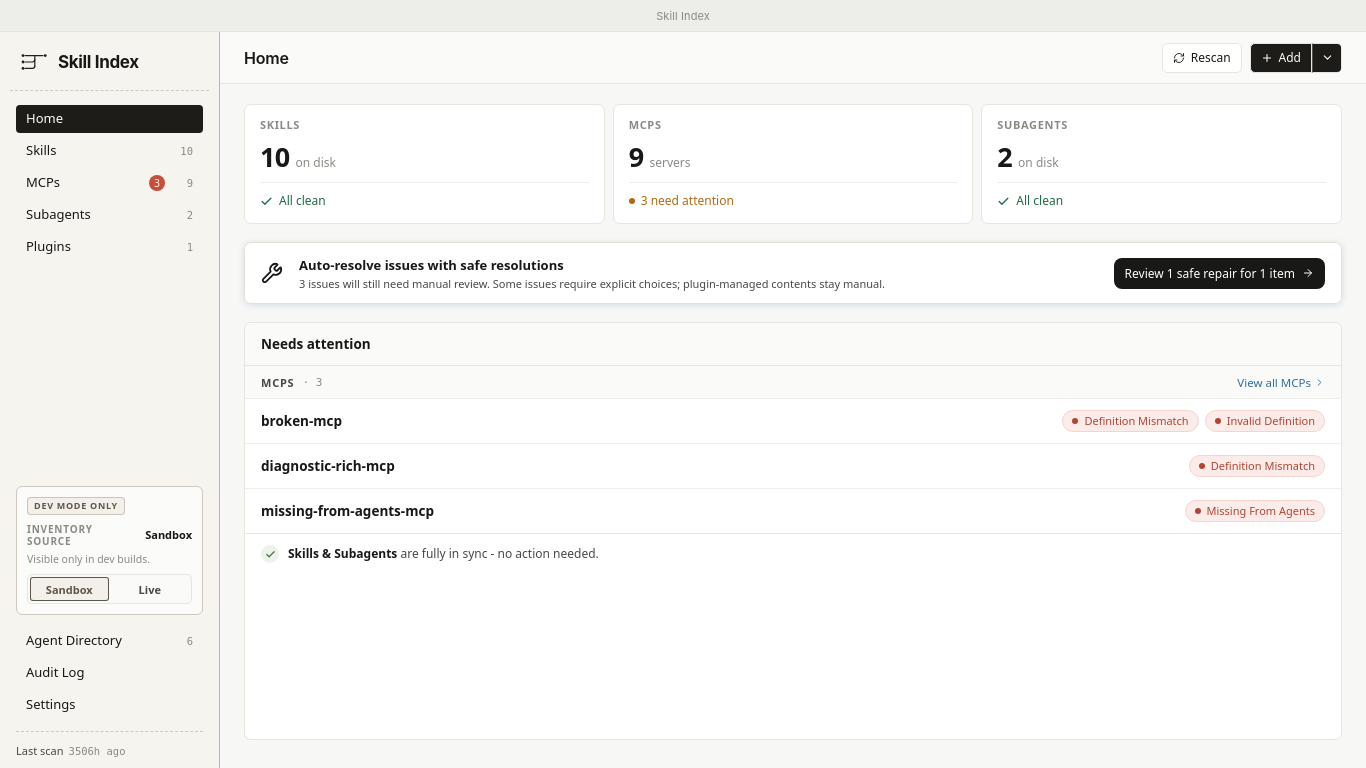
Test case: App shell inventory views › shows Home safe repairs when only MCP missing-from-agents issues are auto-resolvable
The image size is (1366, 768).
Click the button "Review 1 safe repair for 1 item": (1219, 273) [1114, 258, 1325, 289]
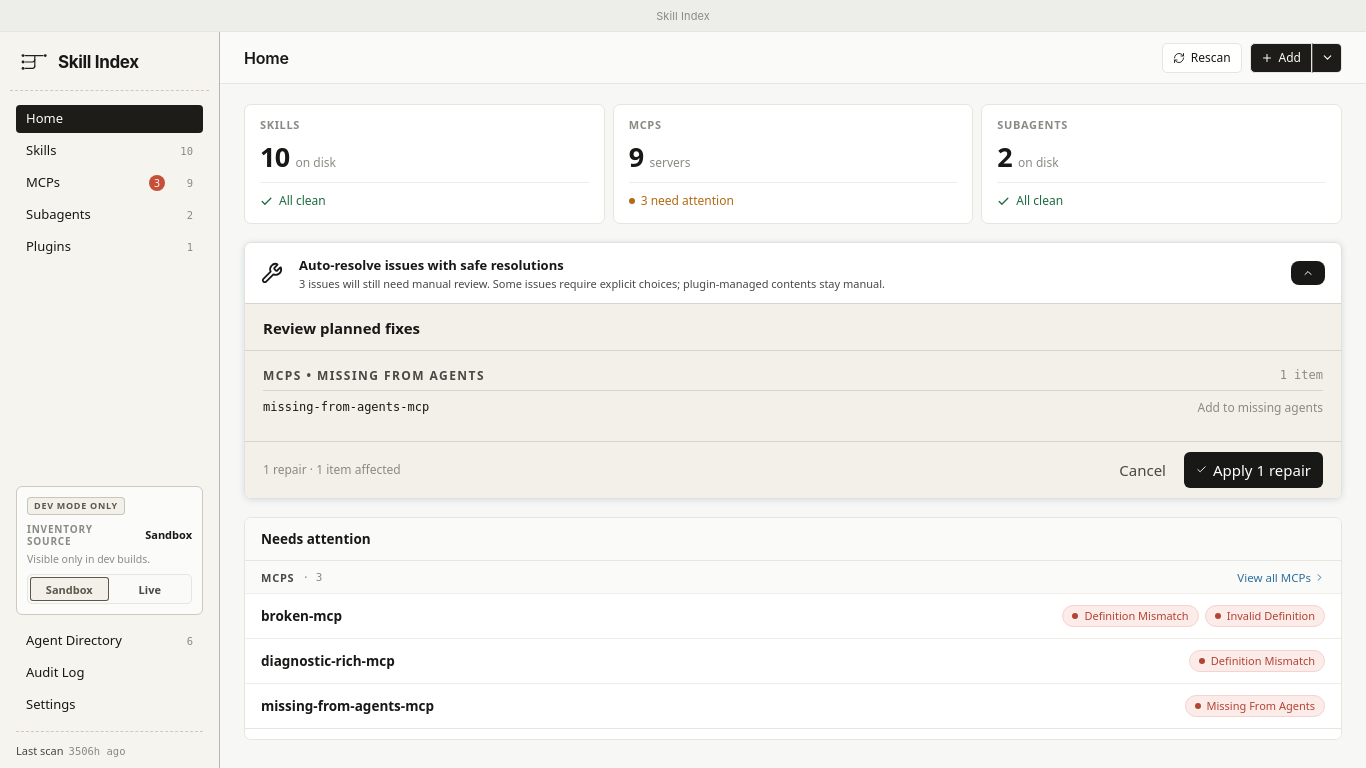
Expected: the text "Missing From Agents" is shown, [1184, 695, 1325, 717]
Expected: the text "Add to missing agents" is shown, [1198, 398, 1323, 418]
